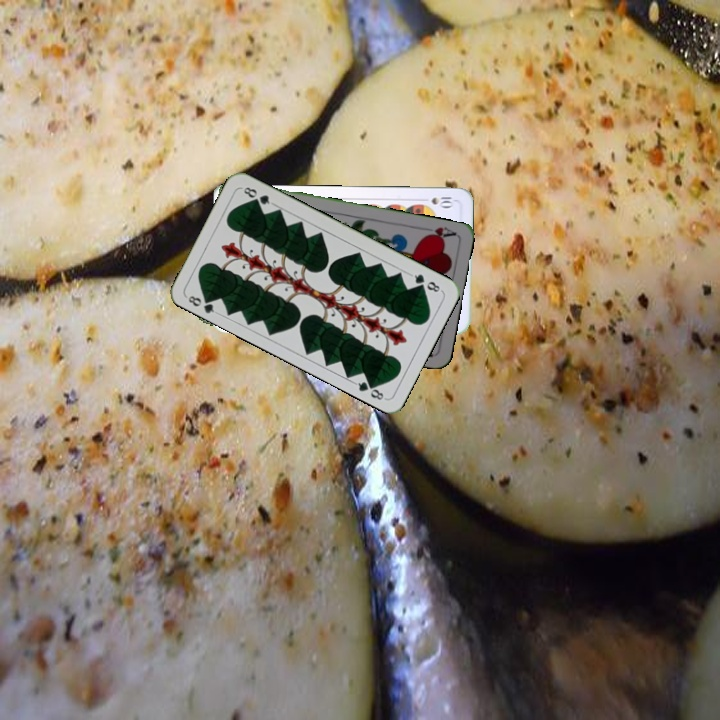G8: (182, 291, 220, 317), (406, 270, 444, 295)
HA: (417, 223, 458, 243)
S10: (417, 192, 457, 209)
